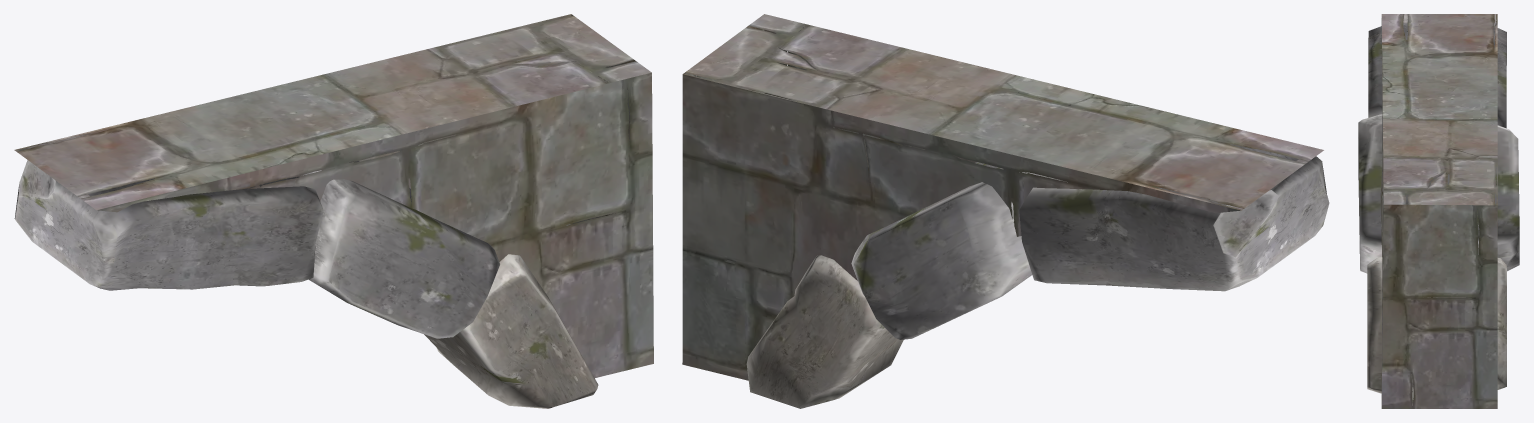
The picture shows the model from 3 angles, left to right: view 1: azimuth 30°, elevation 25°; view 2: azimuth 150°, elevation 25°; view 3: azimuth 270°, elevation 25°; orthographic projection. The views are drawn at different scales.
Parts seen in each view (by area): view 1: SM_BB_T3_Wall_Slanted_Shallow_Med_Inverted_Curved_LOD0; view 2: SM_BB_T3_Wall_Slanted_Shallow_Med_Inverted_Curved_LOD0; view 3: SM_BB_T3_Wall_Slanted_Shallow_Med_Inverted_Curved_LOD0.
Part boxes in pixels (<box>): SM_BB_T3_Wall_Slanted_Shallow_Med_Inverted_Curved_LOD0: <box>14,14,653,408</box>; SM_BB_T3_Wall_Slanted_Shallow_Med_Inverted_Curved_LOD0: <box>682,14,1329,408</box>; SM_BB_T3_Wall_Slanted_Shallow_Med_Inverted_Curved_LOD0: <box>1358,14,1519,408</box>.
Size of the model in its own units: 1.5 by 0.7843 by 0.5356.
Materials: 2 (2 with a texture image).
